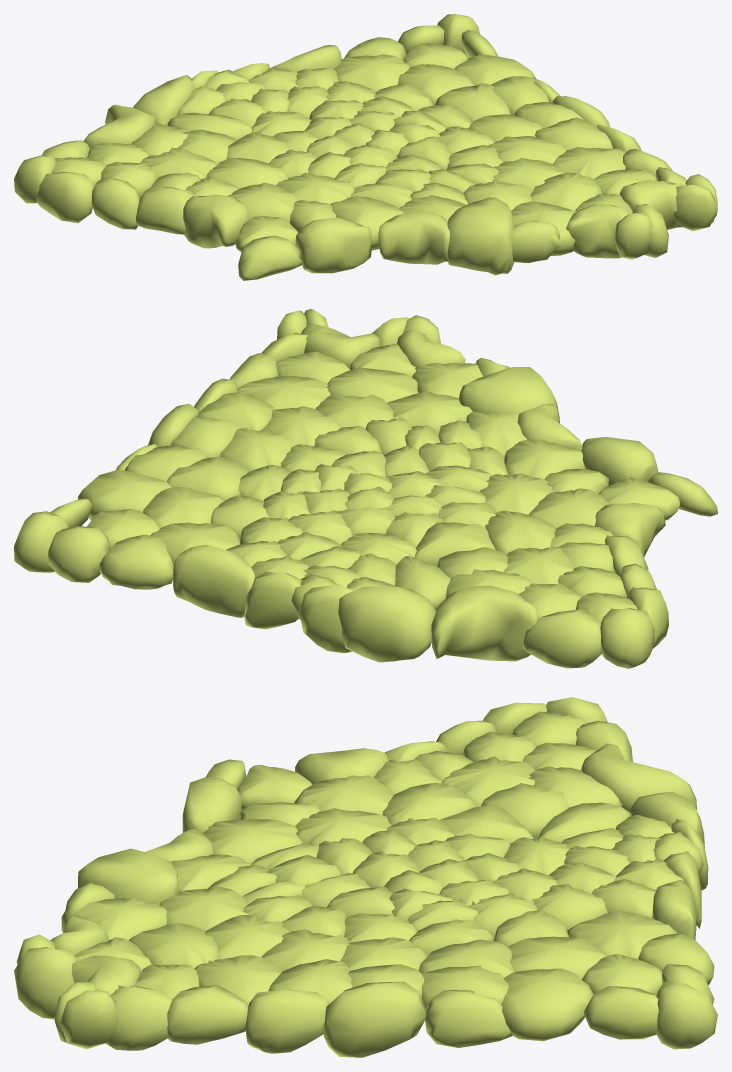
File: Islands3.002_fog.fbx
3 views of the same model, one above another, from view 1: azimuth 30°, elevation 25°; view 2: azimuth 150°, elevation 25°; view 3: azimuth 270°, elevation 25° (orthographic). The views are drawn at different scales.
Parts seen in each view (by area): view 1: Island3.002_fog_cell.032, Island3.002_fog_cell.037, Island3.002_fog_cell.055, Island3.002_fog_cell.088, Island3.002_fog_cell.063, Island3.002_fog_cell.012, Island3.002_fog_cell.029, Island3.002_fog_cell.078, Island3.002_fog_cell.046, Island3.002_fog_cell.095, Island3.002_fog_cell.028, Island3.002_fog_cell.049 (+83 smaller); view 2: Island3.002_fog_cell.028, Island3.002_fog_cell.045, Island3.002_fog_cell.044, Island3.002_fog_cell.009, Island3.002_fog_cell.032, Island3.002_fog_cell.062, Island3.002_fog_cell.010, Island3.002_fog_cell.087, Island3.002_fog_cell.037, Island3.002_fog_cell.082, Island3.002_fog_cell.070, Island3.002_fog_cell.083 (+84 smaller); view 3: Island3.002_fog_cell.007, Island3.002_fog_cell.082, Island3.002_fog_cell.057, Island3.002_fog_cell.094, Island3.002_fog_cell.056, Island3.002_fog_cell.032, Island3.002_fog_cell.028, Island3.002_fog_cell.092, Island3.002_fog_cell.006, Island3.002_fog_cell.060, Island3.002_fog_cell.089, Island3.002_fog_cell.099 (+87 smaller).
Part boxes in pixels (bbox=[...]): Island3.002_fog_cell.032: bbox=[447, 197, 514, 275]; Island3.002_fog_cell.037: bbox=[295, 217, 372, 273]; Island3.002_fog_cell.055: bbox=[378, 210, 449, 264]; Island3.002_fog_cell.088: bbox=[183, 194, 249, 248]; Island3.002_fog_cell.063: bbox=[566, 204, 629, 258]; Island3.002_fog_cell.012: bbox=[36, 171, 94, 222]; Island3.002_fog_cell.029: bbox=[238, 235, 302, 280]; Island3.002_fog_cell.078: bbox=[136, 186, 193, 234]; Island3.002_fog_cell.046: bbox=[91, 177, 139, 229]; Island3.002_fog_cell.095: bbox=[334, 54, 410, 92]; Island3.002_fog_cell.028: bbox=[83, 104, 157, 148]; Island3.002_fog_cell.049: bbox=[530, 172, 602, 210]; Island3.002_fog_cell.028: bbox=[431, 585, 538, 661]; Island3.002_fog_cell.045: bbox=[338, 586, 436, 662]; Island3.002_fog_cell.044: bbox=[173, 544, 255, 617]; Island3.002_fog_cell.009: bbox=[523, 609, 602, 668]; Island3.002_fog_cell.032: bbox=[459, 367, 559, 417]; Island3.002_fog_cell.062: bbox=[99, 534, 173, 589]; Island3.002_fog_cell.010: bbox=[600, 608, 654, 668]; Island3.002_fog_cell.087: bbox=[48, 526, 110, 582]; Island3.002_fog_cell.037: bbox=[581, 437, 658, 485]; Island3.002_fog_cell.082: bbox=[77, 470, 171, 519]; Island3.002_fog_cell.070: bbox=[244, 571, 302, 629]; Island3.002_fog_cell.083: bbox=[299, 584, 354, 653]; Island3.002_fog_cell.007: bbox=[323, 981, 426, 1057]; Island3.002_fog_cell.082: bbox=[501, 968, 593, 1041]; Island3.002_fog_cell.057: bbox=[245, 989, 329, 1053]; Island3.002_fog_cell.094: bbox=[425, 990, 512, 1047]; Island3.002_fog_cell.056: bbox=[167, 985, 248, 1044]; Island3.002_fog_cell.032: bbox=[78, 848, 178, 904]; Island3.002_fog_cell.028: bbox=[581, 743, 696, 810]; Island3.002_fog_cell.092: bbox=[584, 986, 658, 1039]; Island3.002_fog_cell.006: bbox=[656, 981, 717, 1049]; Island3.002_fog_cell.060: bbox=[105, 985, 172, 1050]; Island3.002_fog_cell.089: bbox=[14, 947, 77, 1019]; Island3.002_fog_cell.099: bbox=[202, 819, 302, 863].
Size of the model in its own units: 89.46 by 9.93 by 84.51.
